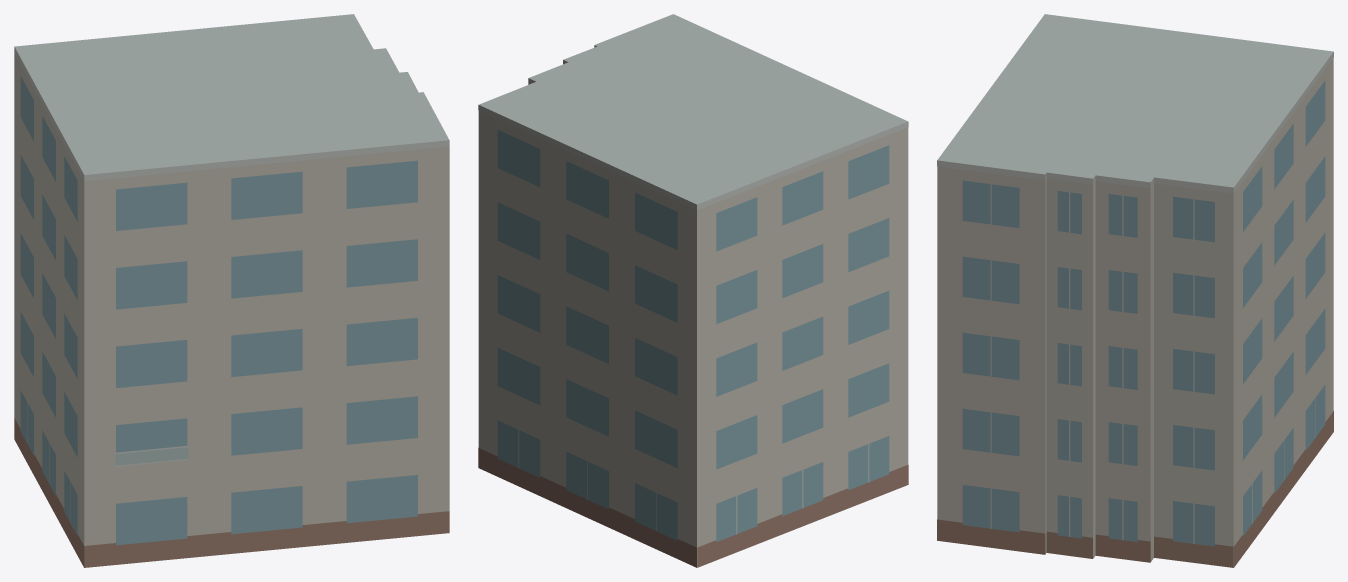
Rendered from survey-upis-33038213.glb.
The picture shows the model from 3 angles, left to right: view 1: azimuth 30°, elevation 25°; view 2: azimuth 150°, elevation 25°; view 3: azimuth 270°, elevation 25°; orthographic projection. The views are drawn at different scales.
Visible parts, largest first — view 1: survey-upis-33038213.tmp; view 2: survey-upis-33038213.tmp; view 3: survey-upis-33038213.tmp.
Part boxes in pixels (x1,y1,x2,y2): survey-upis-33038213.tmp: [14, 14, 449, 567]; survey-upis-33038213.tmp: [478, 14, 908, 567]; survey-upis-33038213.tmp: [937, 14, 1333, 567].
Bounding box in the file's own units: 15.08 × 15.4 × 14.57.
